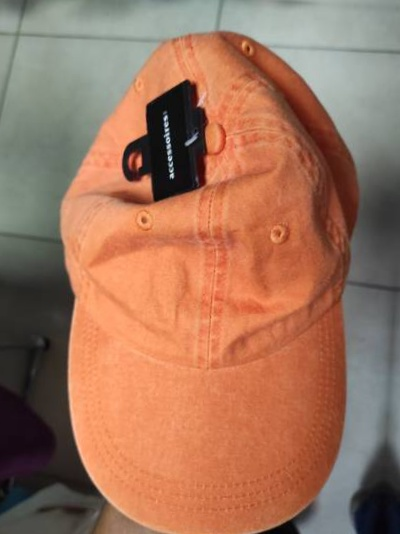Hat: (15, 13, 388, 534)
